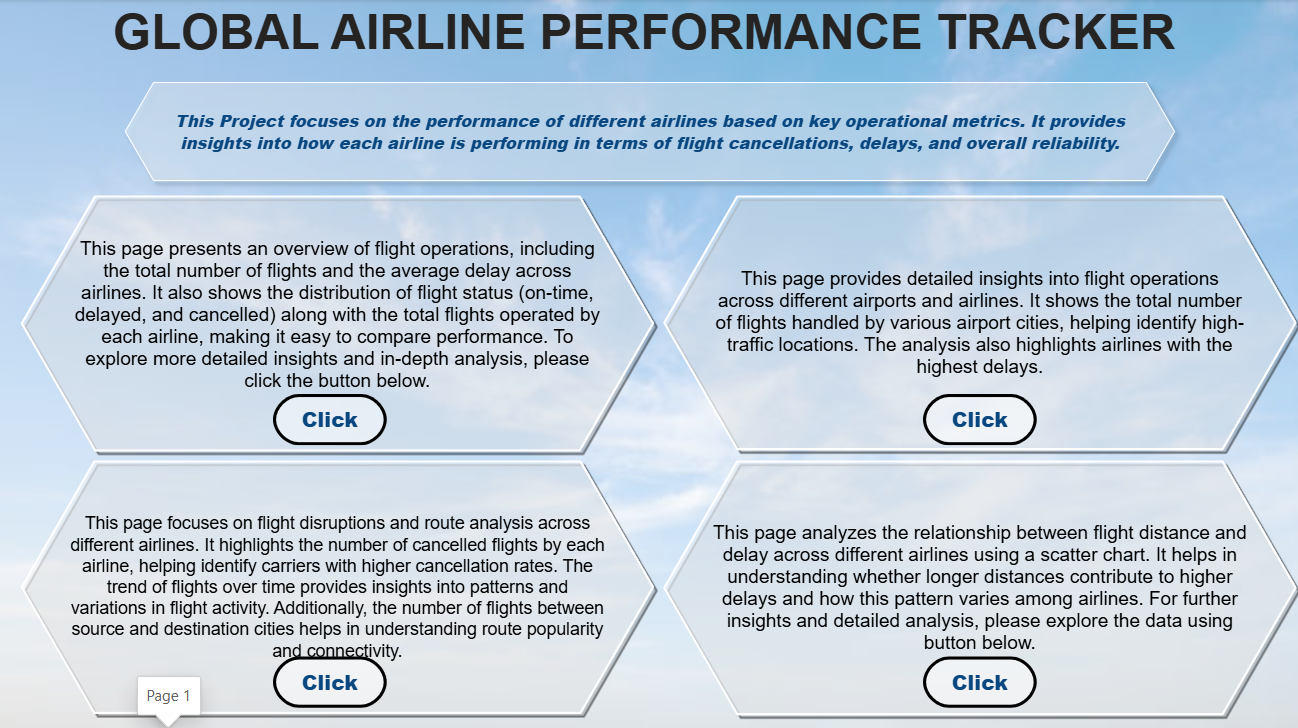

What the dashboard file says about the page in this screenshot:
{"tool":"powerbi","page":{"name":"Page 1","canvas":[1280,720],"ordinal":0},"visuals":[{"type":"textbox","box":[107.5,0,1065,85.9],"z":0},{"type":"shape","box":[17.2,187.7,631.9,261.4],"z":1000},{"type":"shape","box":[647.9,447.9,631.9,260.1],"z":2000},{"type":"shape","box":[17.2,447.9,631.9,258.9],"z":3000},{"type":"shape","box":[647.9,187.7,631.9,260.1],"z":4000},{"type":"shape","box":[115.3,72.4,1049.1,115.3],"z":5000},{"type":"actionButton","box":[269.9,387.7,111.7,50.3],"z":6000},{"type":"actionButton","box":[269.9,645.4,111.7,50.3],"z":7000},{"type":"actionButton","box":[908,387.7,111.7,50.3],"z":8000},{"type":"actionButton","box":[908,645.4,111.7,50.3],"z":9000}]}

Visuals, with their boxes in screenshot pixels (x1, y1, x2, y2), scaled from the page's 1280x720 canvas onto the 1298x728 screenshot:
textbox: x1=109 y1=0 x2=1189 y2=87
shape: x1=17 y1=190 x2=658 y2=454
shape: x1=657 y1=453 x2=1297 y2=716
shape: x1=17 y1=453 x2=658 y2=715
shape: x1=657 y1=190 x2=1297 y2=453
shape: x1=117 y1=73 x2=1181 y2=190
actionButton: x1=274 y1=392 x2=387 y2=443
actionButton: x1=274 y1=653 x2=387 y2=703
actionButton: x1=921 y1=392 x2=1034 y2=443
actionButton: x1=921 y1=653 x2=1034 y2=703
